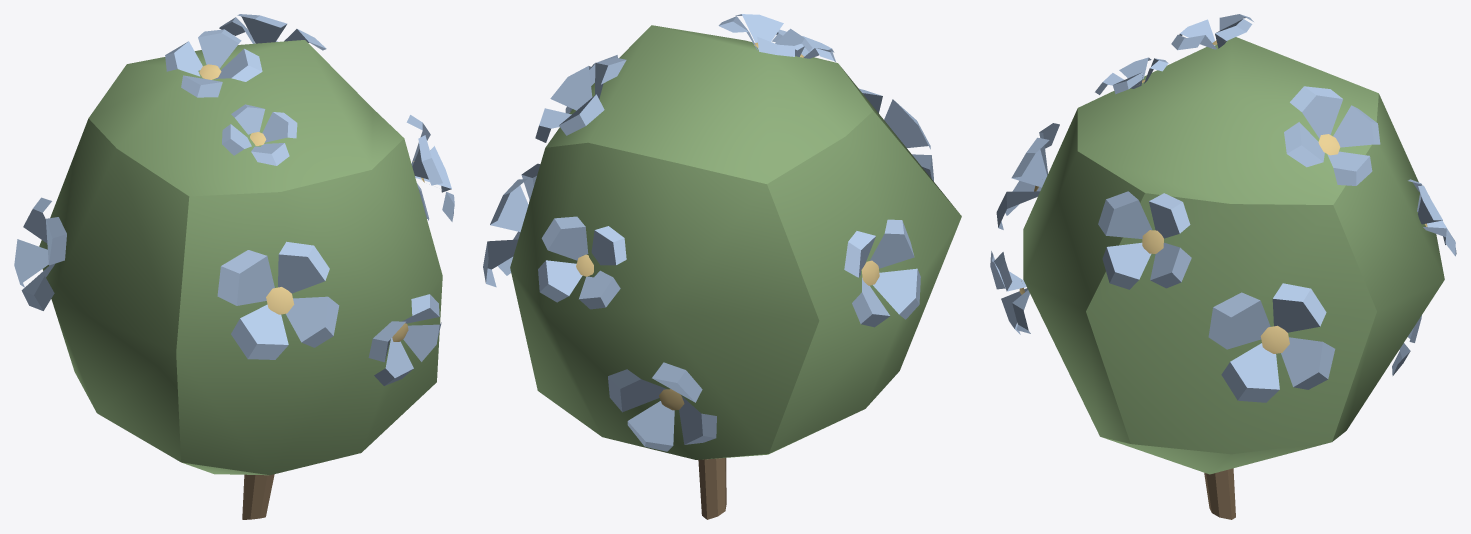
The model's file is blueFlower.fbx.
3 views of the same model, side by side, from view 1: azimuth 30°, elevation 25°; view 2: azimuth 150°, elevation 25°; view 3: azimuth 270°, elevation 25° (orthographic). The views are drawn at different scales.
Visible parts, largest first — view 1: bush01, flowerPetals01 (×7), shrubStem01, flowerPollen01; view 2: bush01, flowerPetals01 (×8), shrubStem01; view 3: bush01, flowerPetals01 (×8), shrubStem01, flowerPollen01.
Part boxes in pixels (box(x1,y1,x2,y2)): bush01: box(39, 40, 442, 475); flowerPetals01 (×7): box(14, 14, 454, 385); shrubStem01: box(242, 474, 274, 519); flowerPollen01: box(266, 287, 294, 314); bush01: box(510, 25, 961, 459); flowerPetals01 (×8): box(483, 14, 933, 451); shrubStem01: box(698, 458, 726, 519); bush01: box(1023, 37, 1444, 474); flowerPetals01 (×8): box(990, 14, 1456, 402); shrubStem01: box(1204, 468, 1235, 519); flowerPollen01: box(1260, 325, 1289, 353).
Bounding box in the file's own units: 0.6134 × 0.7357 × 0.6482.
